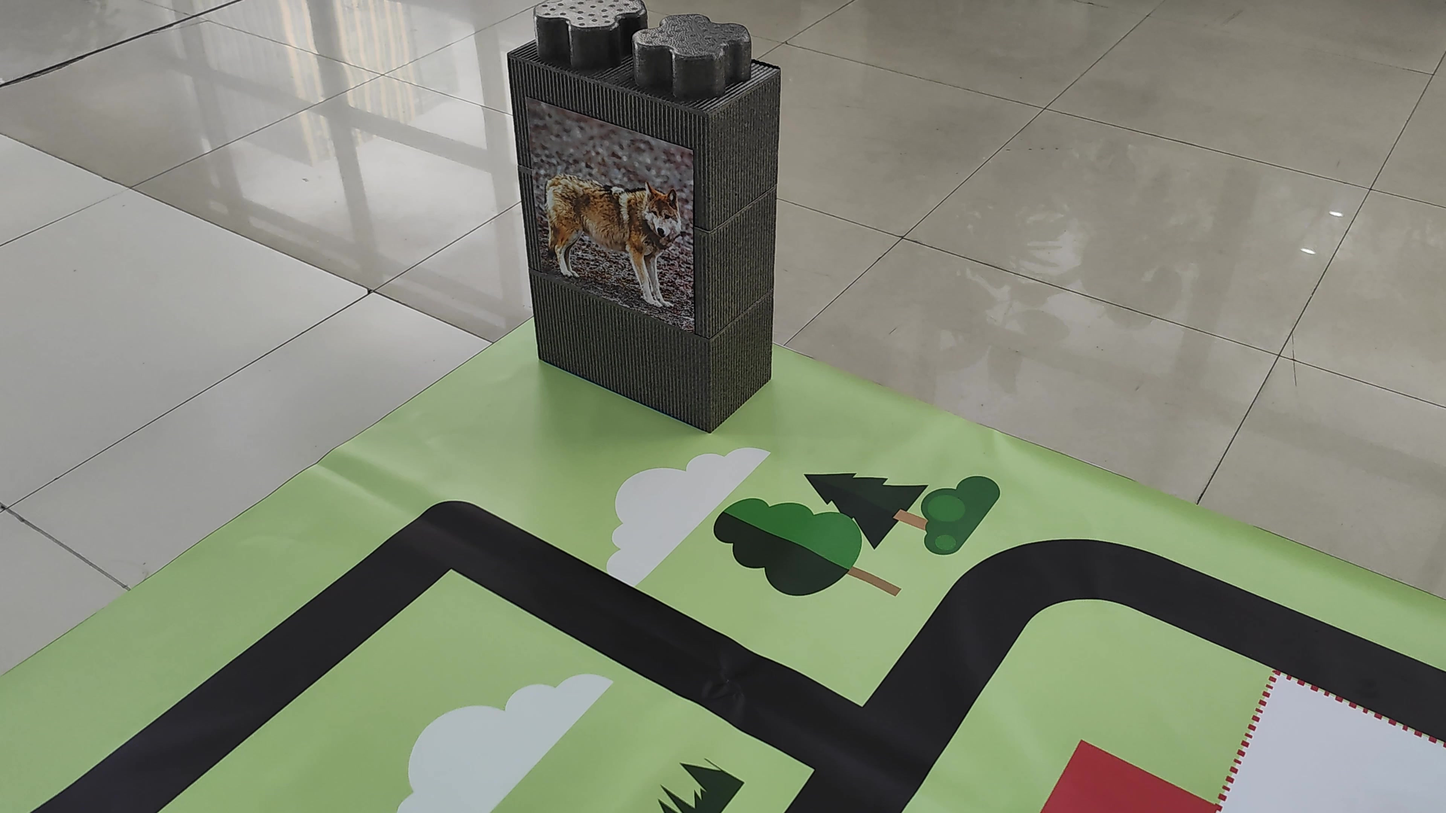wolf: (536, 143, 694, 329)
